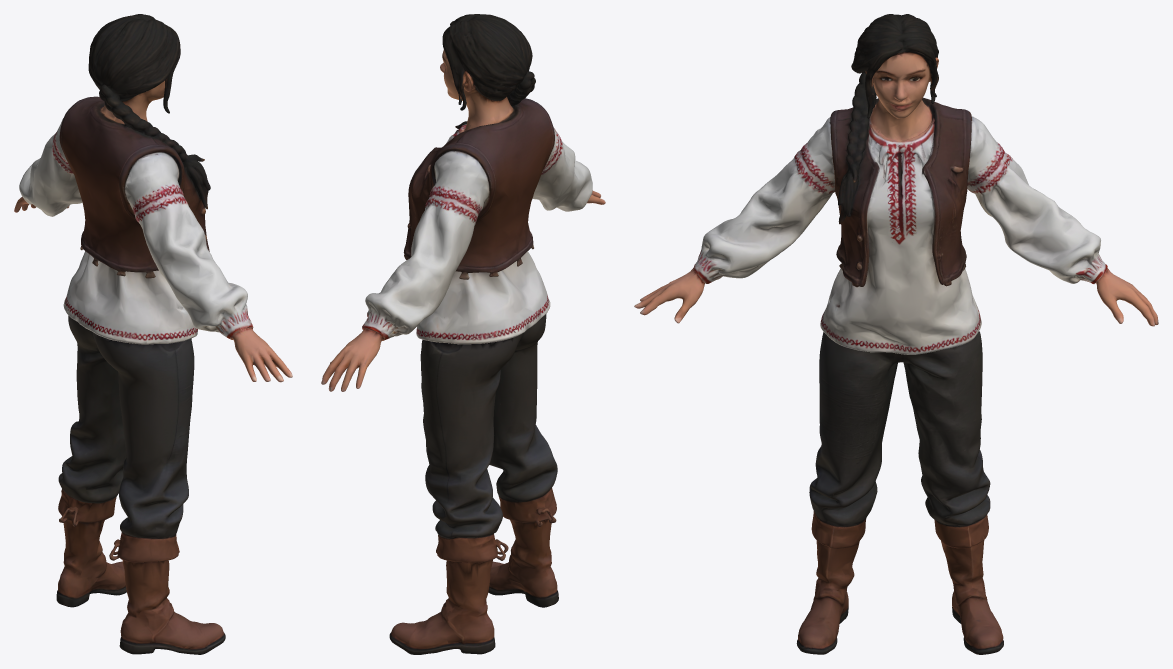
The model's file is colonist_f.glb.
The picture shows the model from 3 angles, left to right: view 1: azimuth 30°, elevation 25°; view 2: azimuth 150°, elevation 25°; view 3: azimuth 270°, elevation 25°; orthographic projection. The views are drawn at different scales.
Visible parts, largest first — view 1: tripo_node_a3577906-6447-4a7a-9e45-65e8b949047d; view 2: tripo_node_a3577906-6447-4a7a-9e45-65e8b949047d; view 3: tripo_node_a3577906-6447-4a7a-9e45-65e8b949047d.
Boxes of the visible parts, x1,y1,x2,y2 form: tripo_node_a3577906-6447-4a7a-9e45-65e8b949047d: (14,14,292,654); tripo_node_a3577906-6447-4a7a-9e45-65e8b949047d: (321,14,605,654); tripo_node_a3577906-6447-4a7a-9e45-65e8b949047d: (634,14,1158,654).
Size of the model in its own units: 0.1903 by 1 by 0.7661.
Materials: 1 (1 with a texture image).
